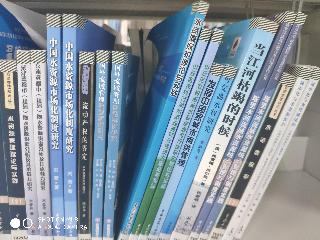book-spine: (197, 12, 307, 240), (188, 12, 296, 240), (168, 19, 277, 240), (117, 2, 209, 240), (138, 30, 223, 240), (128, 29, 212, 240), (221, 66, 311, 240), (230, 68, 320, 240), (209, 74, 295, 240), (146, 63, 223, 240), (158, 66, 236, 240), (1, 61, 27, 240), (17, 51, 39, 239), (102, 52, 123, 240), (89, 51, 109, 239), (32, 50, 51, 239), (47, 15, 63, 239), (77, 52, 94, 239), (64, 15, 76, 239)
